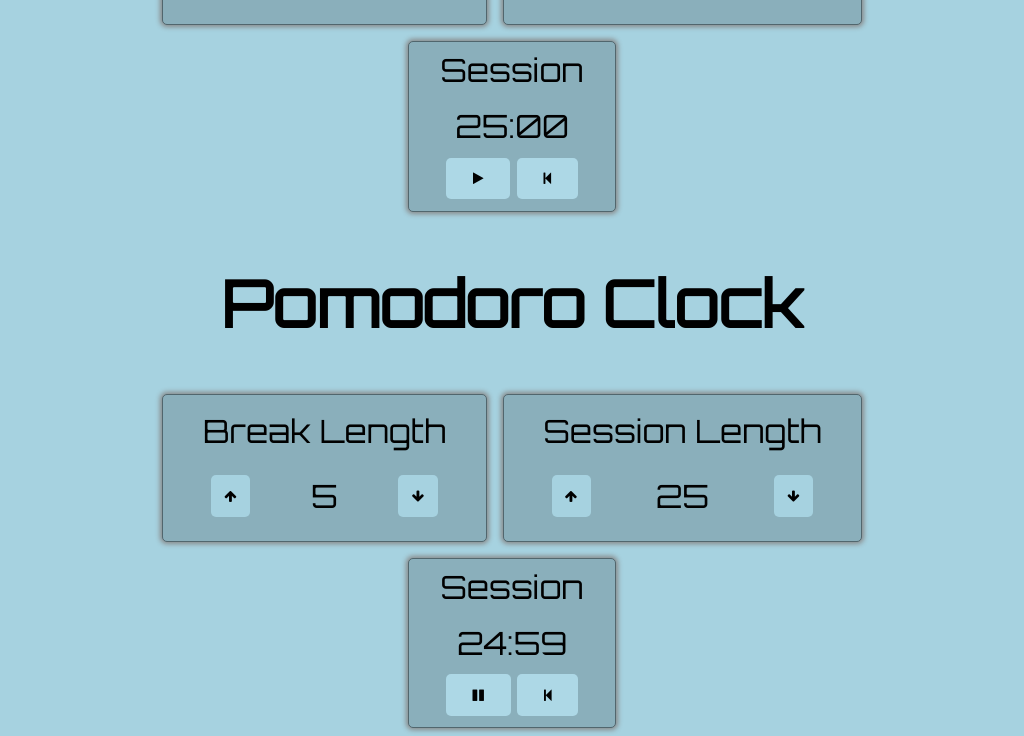
Test: App tests › Should resume timer from the point it was paused at
(page scrolled)
Click the button with id "start_stop" at (478, 695), box [446,674,511,716]
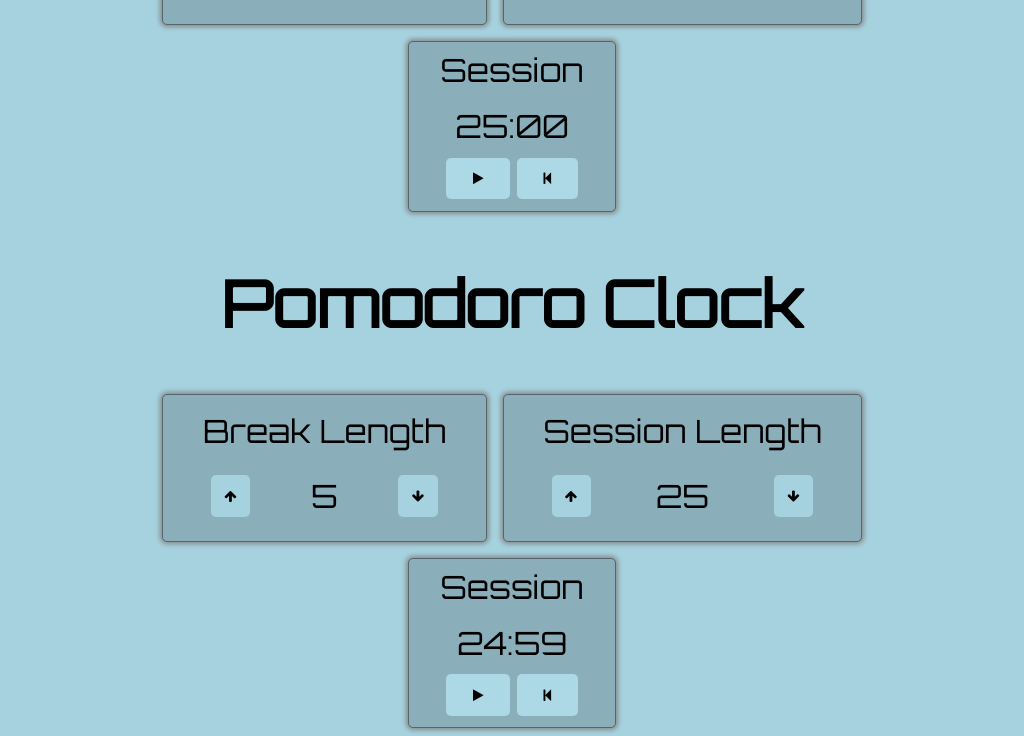
Expected: the text with id "time-left" reads "24:59", [457,623,567,663]
Click the button with id "start_stop" at (478, 695), box [446,674,510,716]
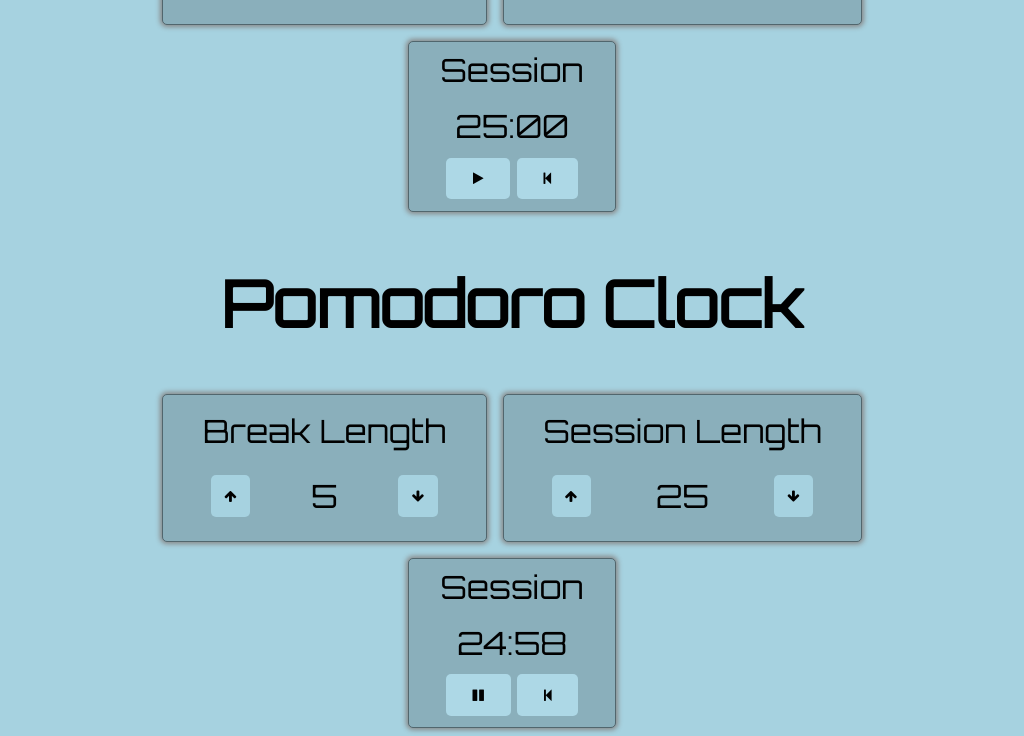
Expected: the text with id "time-left" reads "24:58", [457,623,567,663]
